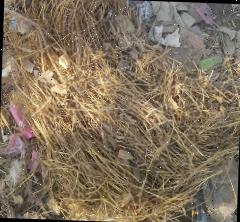organic: (2, 4, 222, 209)
